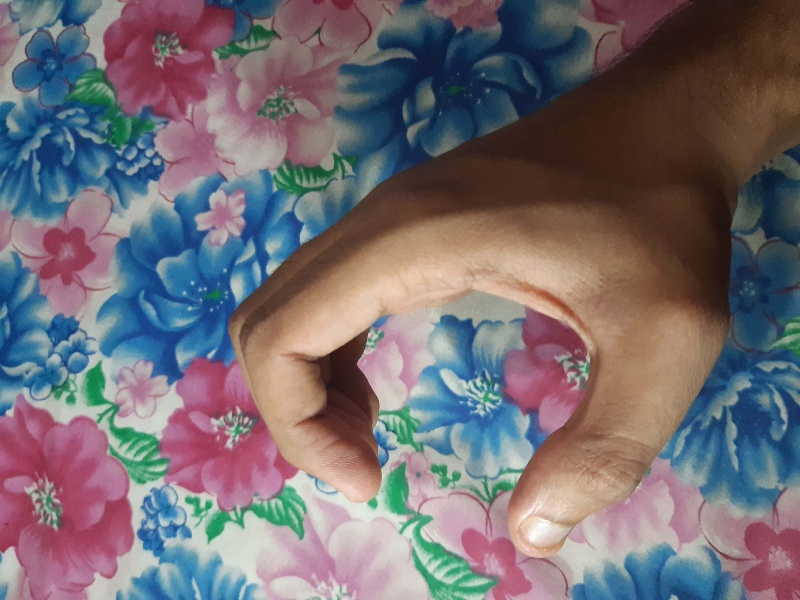one: (217, 133, 764, 578)
